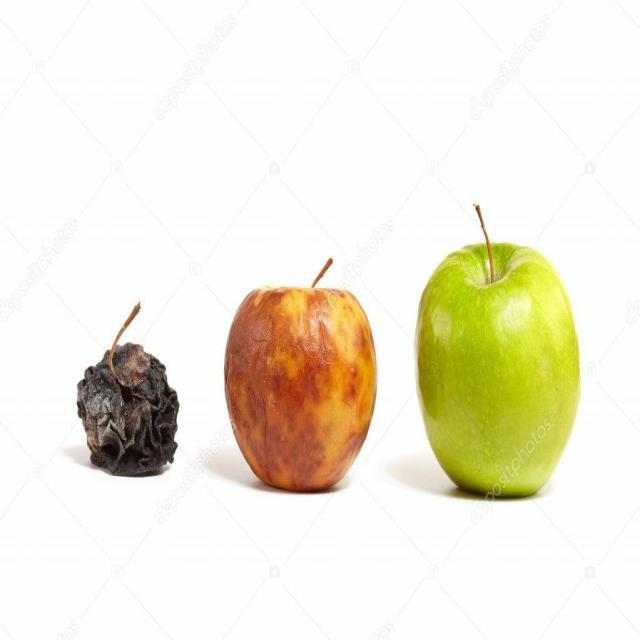fresh_apple: (414, 236, 580, 489)
rotten_apple: (226, 283, 378, 491), (76, 344, 180, 474)
